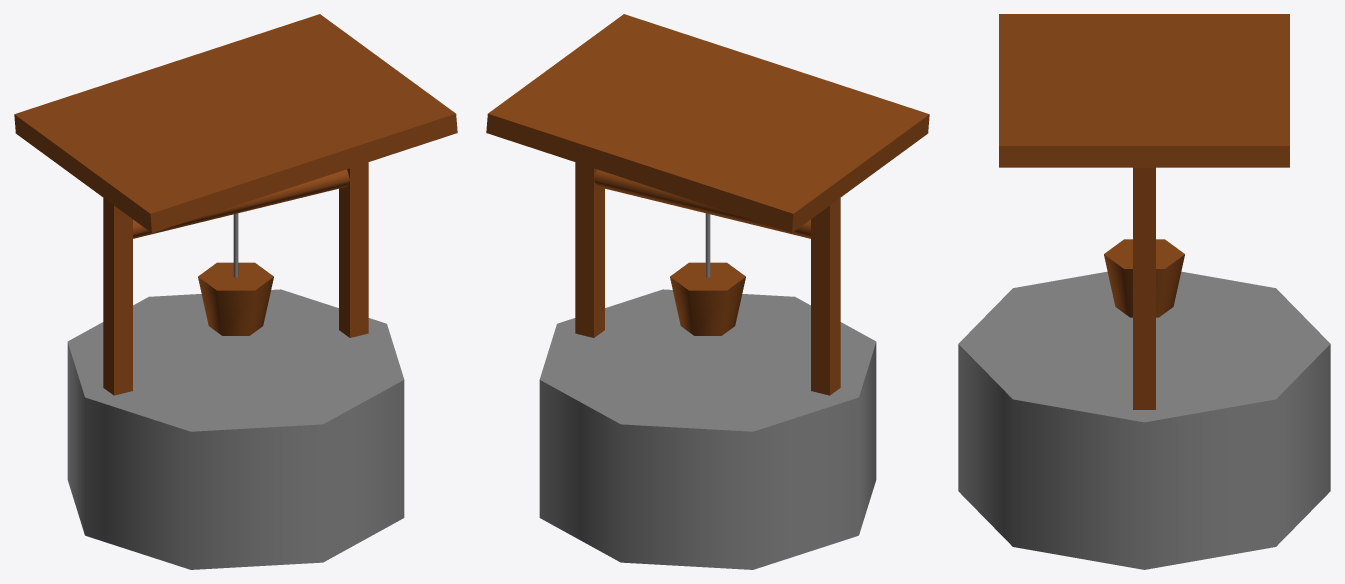
Rendered from well.glb.
The picture shows the model from 3 angles, left to right: view 1: azimuth 30°, elevation 25°; view 2: azimuth 150°, elevation 25°; view 3: azimuth 270°, elevation 25°; orthographic projection. The views are drawn at different scales.
Parts seen in each view (by area): view 1: well, bucket, wheel; view 2: well, bucket, wheel; view 3: well, bucket.
Boxes of the visible parts, x1,y1,x2,y2 form: well: (14,14,457,569); bucket: (198,213,273,335); wheel: (133,169,349,238); well: (486,14,929,569); bucket: (670,213,745,335); wheel: (594,169,810,238); well: (958,14,1330,569); bucket: (1104,239,1184,317).
Bounding box in the file's own units: 0.6511 × 0.8059 × 0.64.
